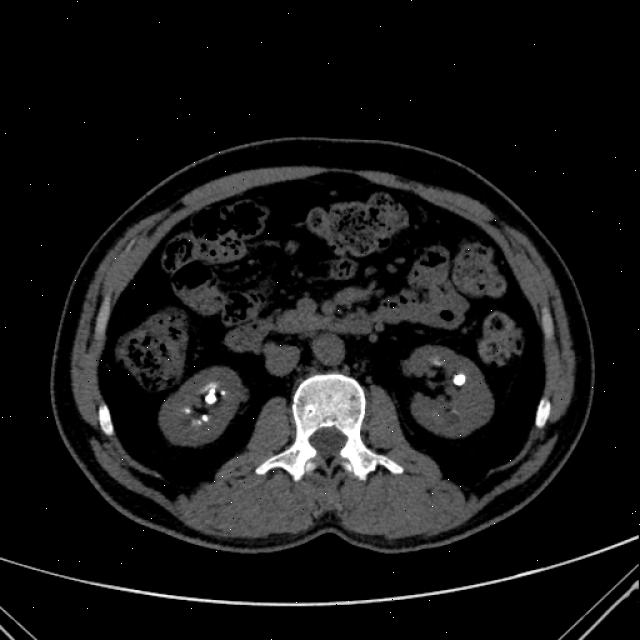kidneystone: (178, 401, 191, 414), (454, 375, 466, 386), (211, 388, 218, 404), (201, 414, 208, 422)
